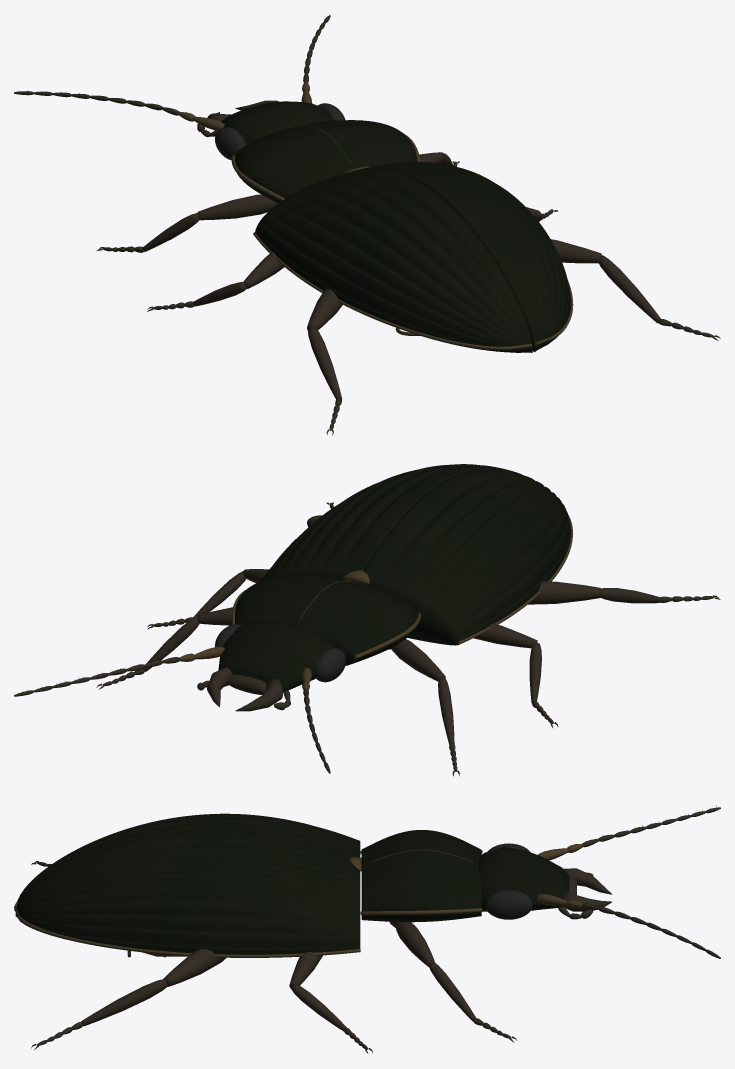
The model's file is forest-beetle.glb.
The picture shows the model from 3 angles, top to bottom: view 1: azimuth 30°, elevation 25°; view 2: azimuth 150°, elevation 25°; view 3: azimuth 270°, elevation 25°; orthographic projection. The views are drawn at different scales.
Visible parts, largest first — view 1: Elytron_L, Elytron_R, Pronotum, Head, Femur_Fore_L, ElytralRim_L, Tibia_Hind_R, CompoundEye_L, Tibia_Hind_L, Femur_Hind_L, Femur_Hind_R, Femur_Mid_L (+1 smaller); view 2: Elytron_L, Pronotum, Elytron_R, Head, Labrum, Femur_Hind_L, CompoundEye_L, Femur_Fore_L, Femur_Mid_L, PronotalRim_L, Tibia_Hind_L, Tibia_Fore_L (+4 smaller); view 3: Elytron_R, Pronotum, Elytron_L, Head, CompoundEye_L, ElytralRim_R, Tibia_Hind_R, Femur_Hind_R, Labrum, Femur_Fore_R, Tibia_Fore_R, PronotalRim_L (+2 smaller).
Boxes of the visible parts, x1=… form: Elytron_L: x1=255, y1=168, x2=532, y2=352; Elytron_R: x1=364, y1=161, x2=571, y2=352; Pronotum: x1=235, y1=120, x2=417, y2=203; Head: x1=221, y1=101, x2=333, y2=145; Femur_Fore_L: x1=197, y1=194, x2=278, y2=220; ElytralRim_L: x1=253, y1=232, x2=532, y2=349; Tibia_Hind_R: x1=598, y1=255, x2=660, y2=323; CompoundEye_L: x1=215, y1=103, x2=345, y2=160; Tibia_Hind_L: x1=307, y1=326, x2=341, y2=399; Femur_Hind_L: x1=307, y1=289, x2=342, y2=330; Femur_Hind_R: x1=551, y1=239, x2=601, y2=263; Femur_Mid_L: x1=243, y1=252, x2=284, y2=288; Elytron_L: x1=363, y1=467, x2=571, y2=645; Pronotum: x1=235, y1=575, x2=418, y2=665; Elytron_R: x1=261, y1=464, x2=500, y2=581; Head: x1=218, y1=621, x2=334, y2=694; Labrum: x1=207, y1=667, x2=282, y2=711; Femur_Hind_L: x1=528, y1=581, x2=601, y2=604; CompoundEye_L: x1=215, y1=624, x2=346, y2=682; Femur_Fore_L: x1=388, y1=639, x2=445, y2=681; Femur_Mid_L: x1=473, y1=623, x2=537, y2=648; PronotalRim_L: x1=231, y1=570, x2=421, y2=659; Tibia_Hind_L: x1=601, y1=588, x2=661, y2=603; Tibia_Fore_L: x1=438, y1=677, x2=454, y2=745; Elytron_R: x1=15, y1=830, x2=360, y2=957; Pronotum: x1=361, y1=830, x2=481, y2=922; Elytron_L: x1=16, y1=813, x2=360, y2=907; Head: x1=478, y1=847, x2=569, y2=911; CompoundEye_L: x1=485, y1=843, x2=532, y2=919; ElytralRim_R: x1=14, y1=907, x2=360, y2=957; Tibia_Hind_R: x1=81, y1=979, x2=167, y2=1026; Femur_Hind_R: x1=163, y1=949, x2=226, y2=986; Labrum: x1=563, y1=868, x2=612, y2=911; Femur_Fore_R: x1=389, y1=921, x2=434, y2=966; Tibia_Fore_R: x1=428, y1=962, x2=475, y2=1021; PronotalRim_L: x1=349, y1=850, x2=482, y2=915.
Size of the model in its own units: 0.0124 by 0.00376 by 0.019.
5 materials, 1 textured.
